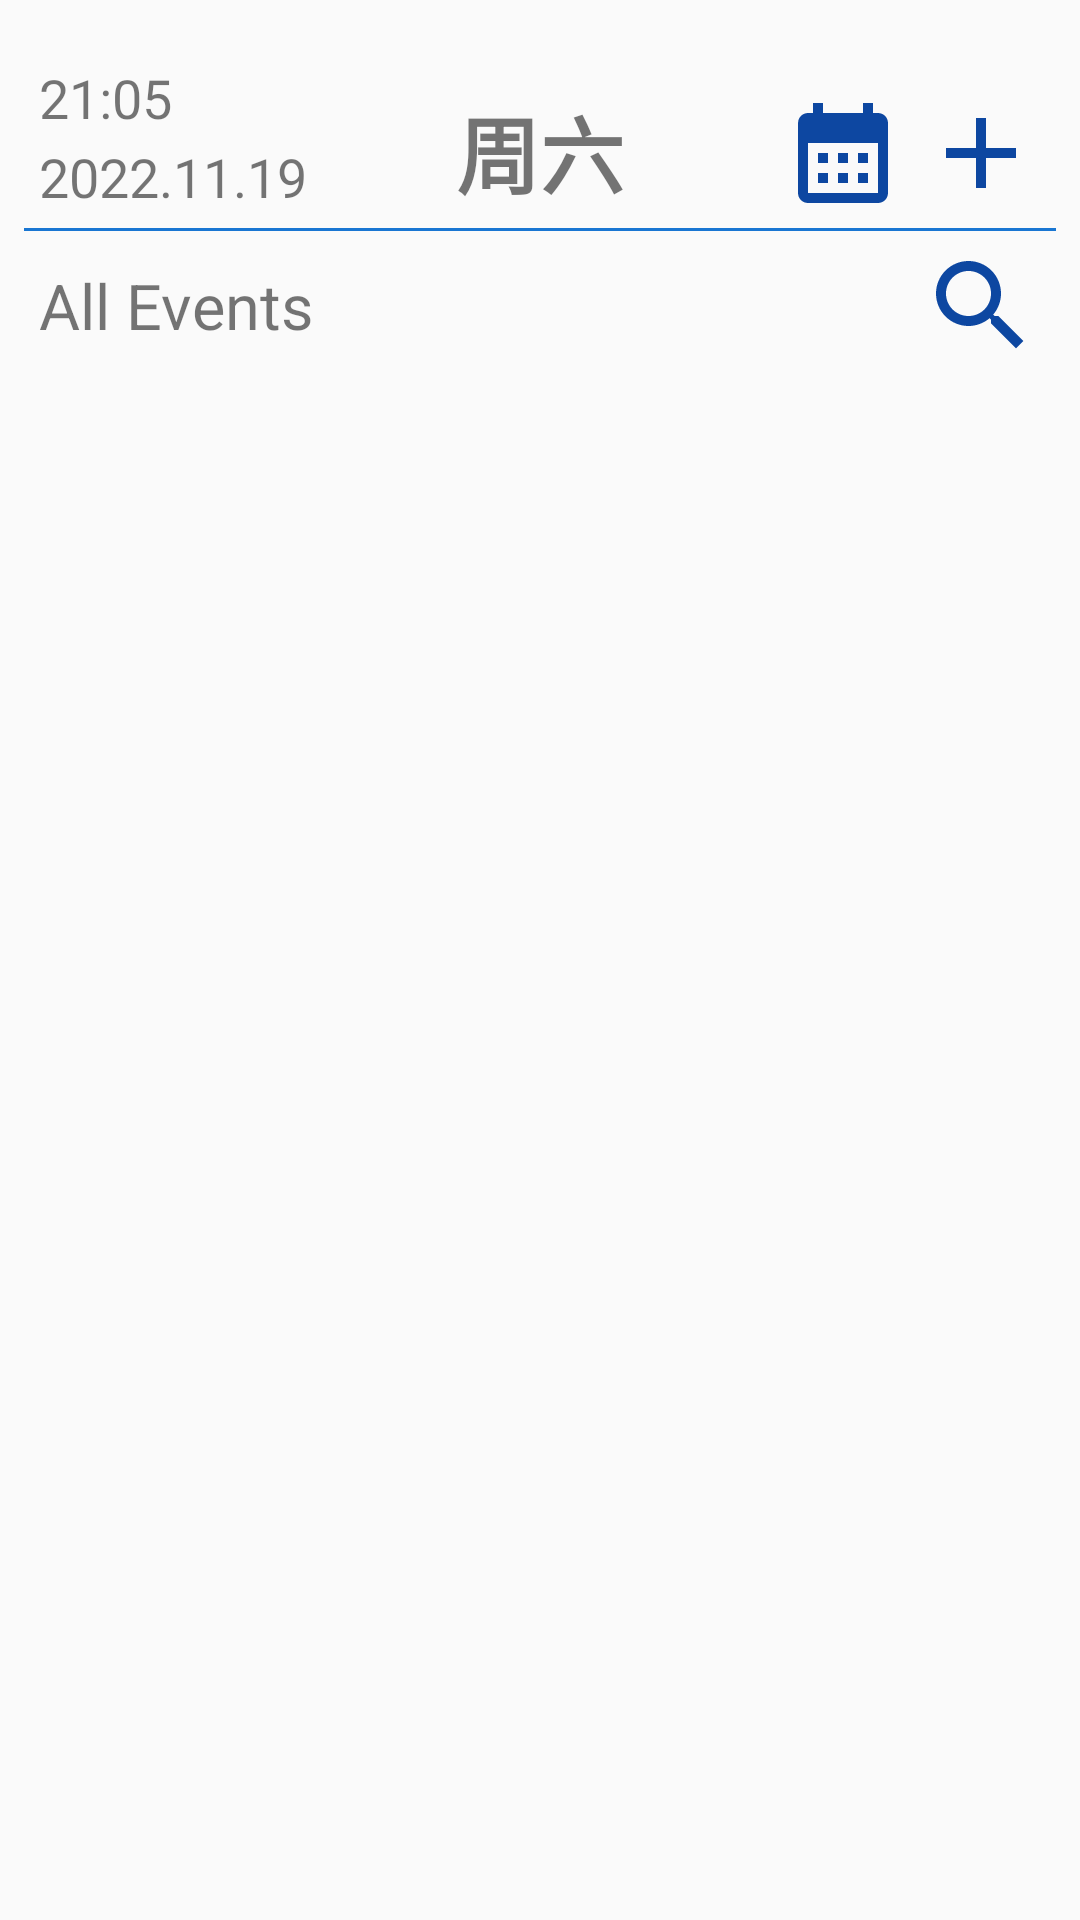

Locate icon controls on the screen. Image size 1080*1920, boxes as (x1, y1, x2, y2).
add: (946, 118, 1016, 188)
calendar month: (798, 103, 888, 203)
search: (936, 261, 1023, 348)
